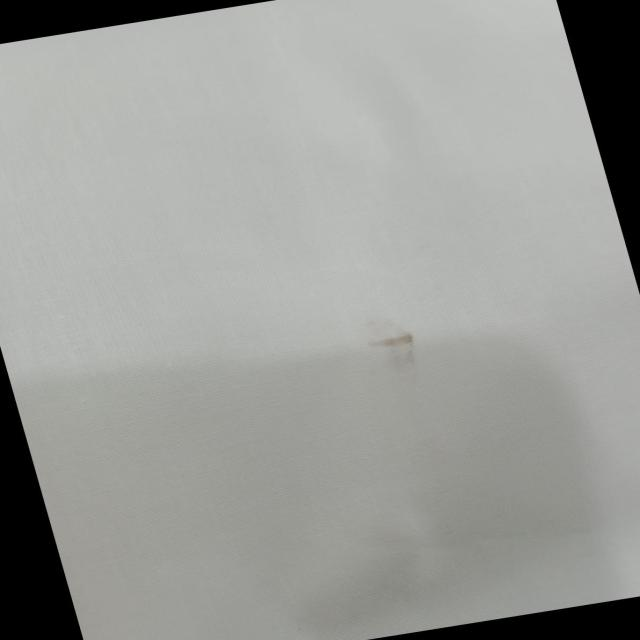stain: (345, 308, 440, 381)
